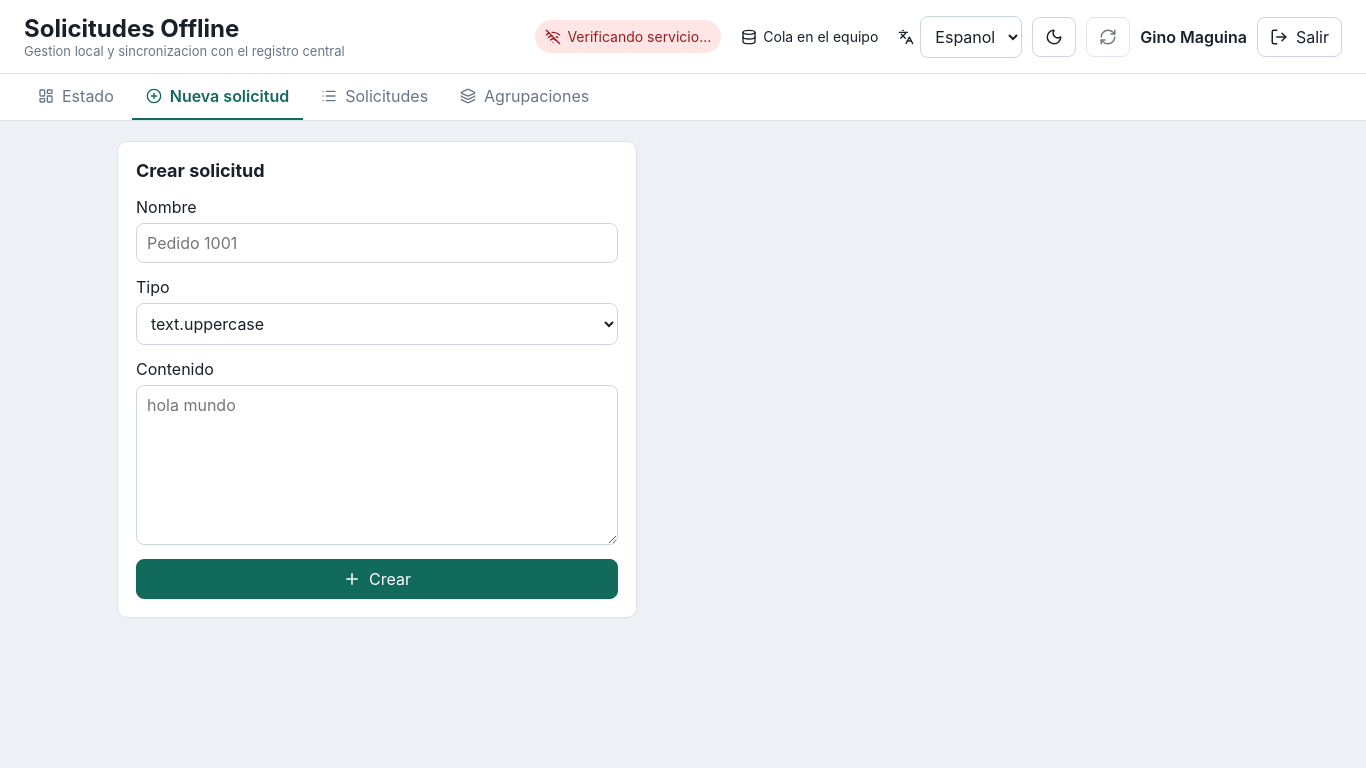
Test: local request workflow › keeps entered data after a failed creation
Type "Keep this order" into the field labelled "Nombre" at (377, 243), box [136,223,618,263]
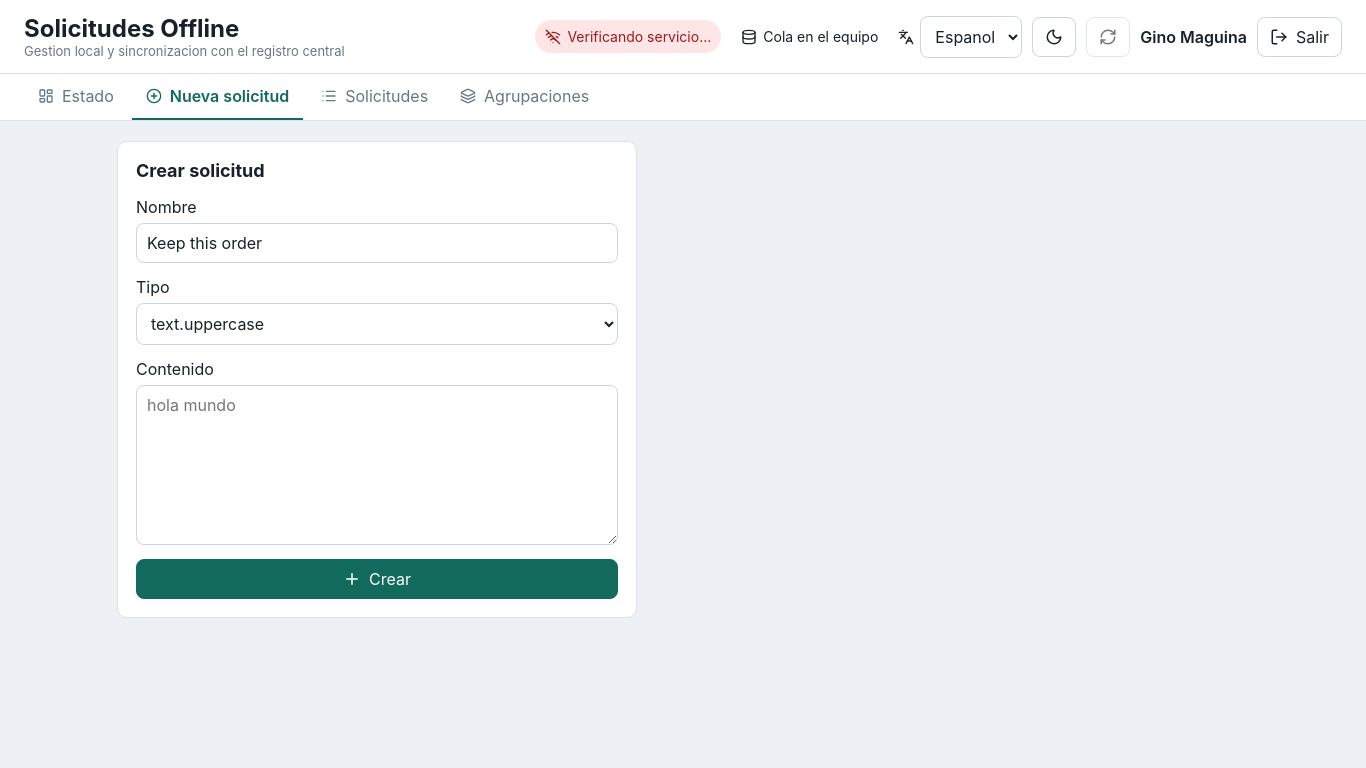
Type "Keep this payload" into the text box labelled "Contenido" at (377, 465), box [136,385,618,545]
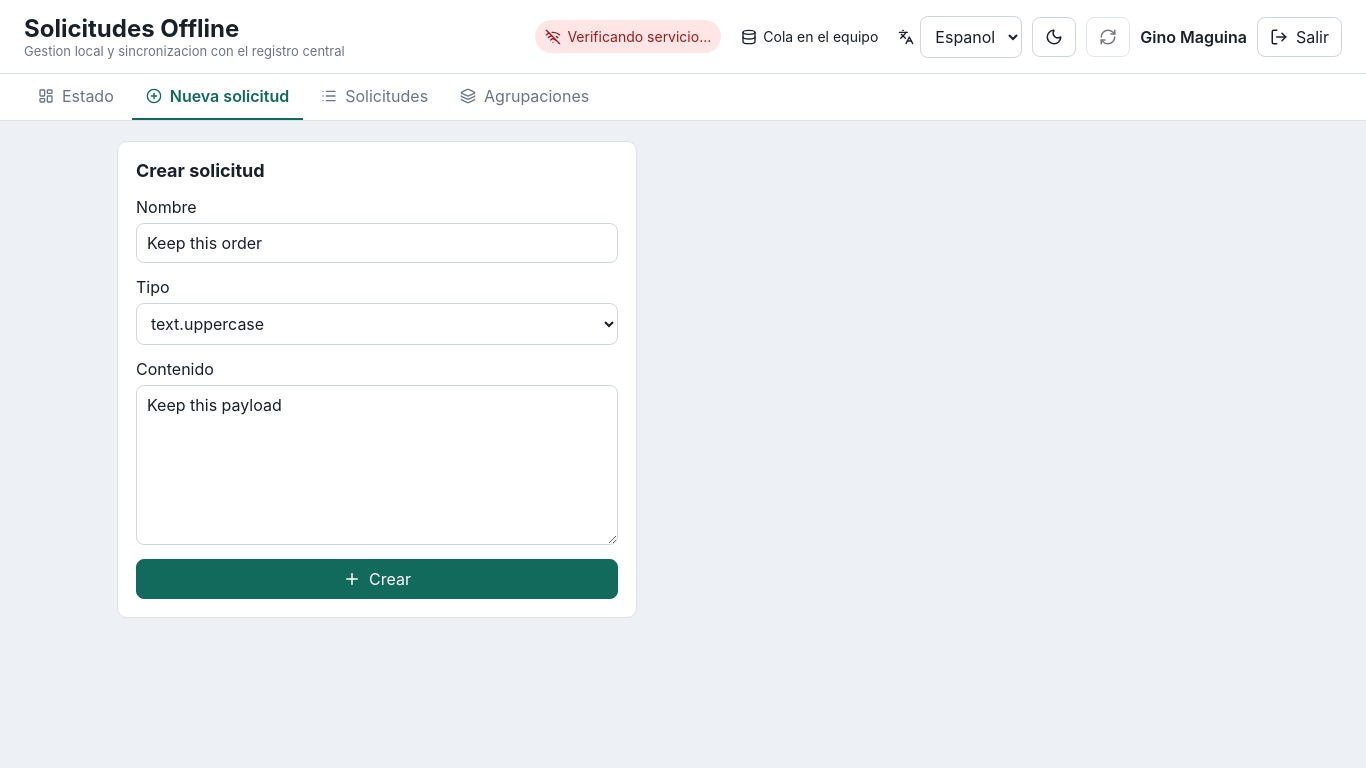
Click the button "Crear" at (377, 579), box [136,559,618,599]
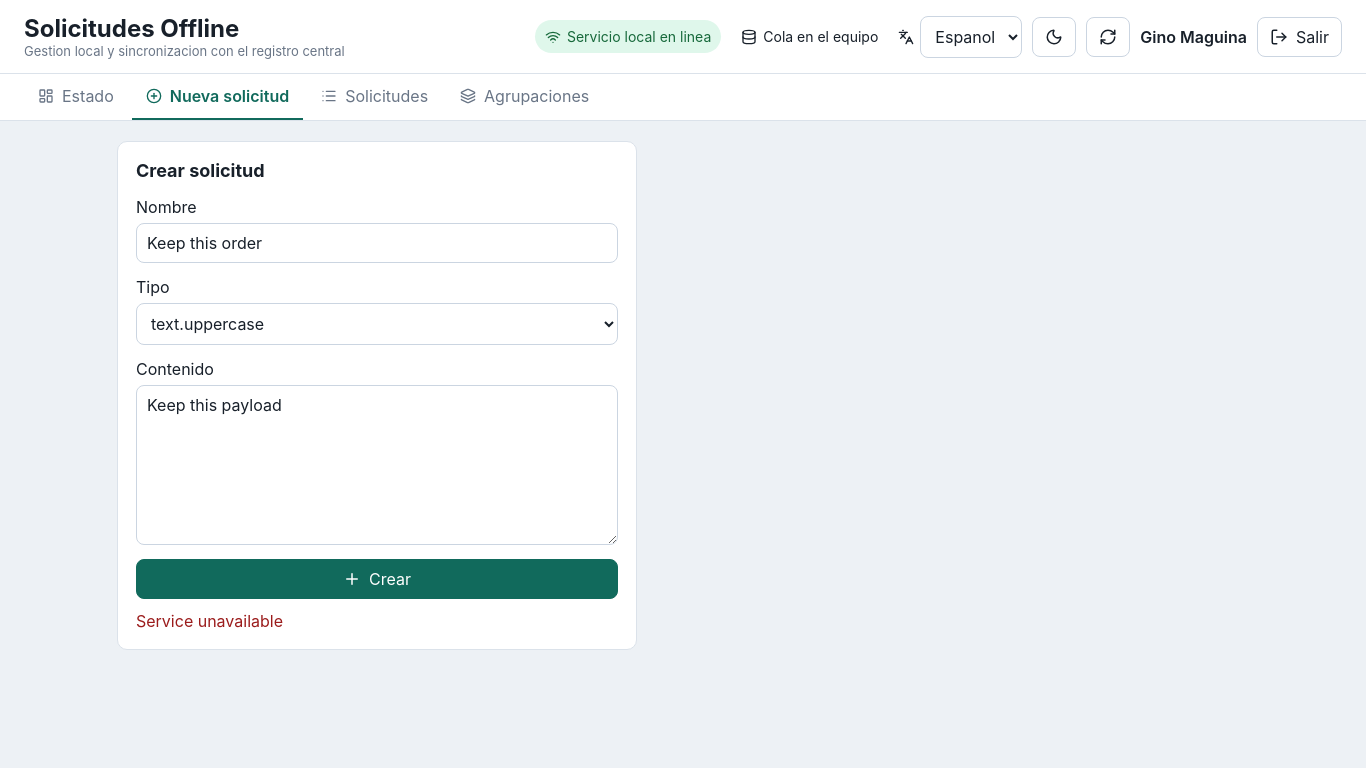
Result: the text "Service unavailable" is shown at [136,611,283,631]
